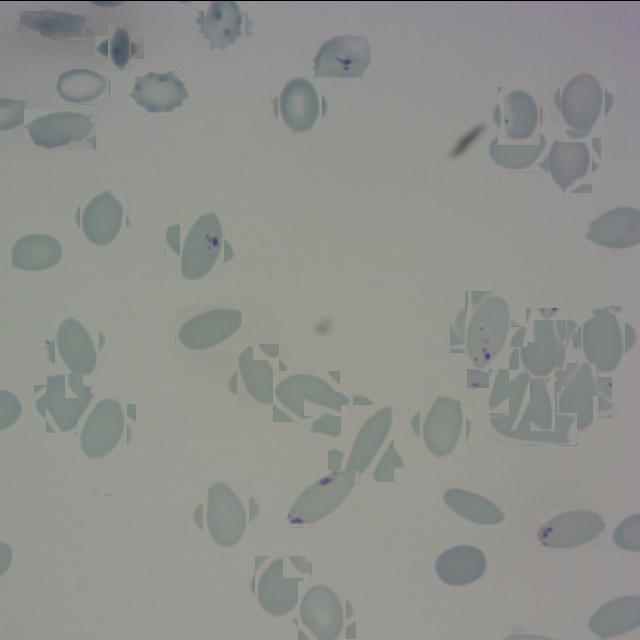leukocyte: (334, 410, 400, 475), (478, 336, 539, 398), (304, 391, 378, 441), (197, 486, 256, 544), (273, 370, 340, 421), (74, 398, 132, 456), (251, 558, 309, 615), (294, 585, 352, 640), (555, 73, 611, 129), (576, 310, 632, 366), (542, 133, 597, 188), (440, 484, 511, 526), (415, 398, 470, 452), (176, 305, 242, 350), (550, 369, 604, 424), (24, 108, 96, 149), (490, 412, 578, 445), (231, 348, 284, 402), (128, 70, 190, 115), (432, 543, 492, 589), (273, 80, 326, 132), (76, 192, 129, 244), (50, 320, 103, 372), (487, 129, 550, 172), (521, 312, 573, 364), (494, 90, 544, 140), (199, 0, 252, 47), (10, 232, 66, 274), (40, 378, 88, 427), (20, 10, 86, 39), (58, 68, 110, 104), (101, 29, 138, 64)
red blood cell: (499, 356, 564, 422), (288, 469, 360, 527), (458, 297, 520, 360), (173, 215, 231, 273), (536, 508, 607, 548), (313, 33, 372, 79)
